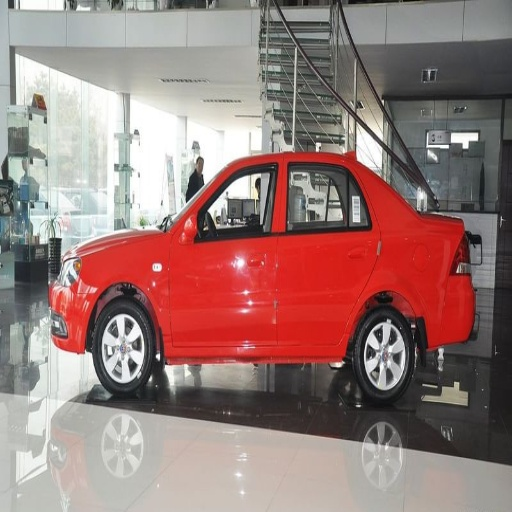back_left_door: (278, 160, 378, 350)
front_left_door: (169, 160, 286, 346)
